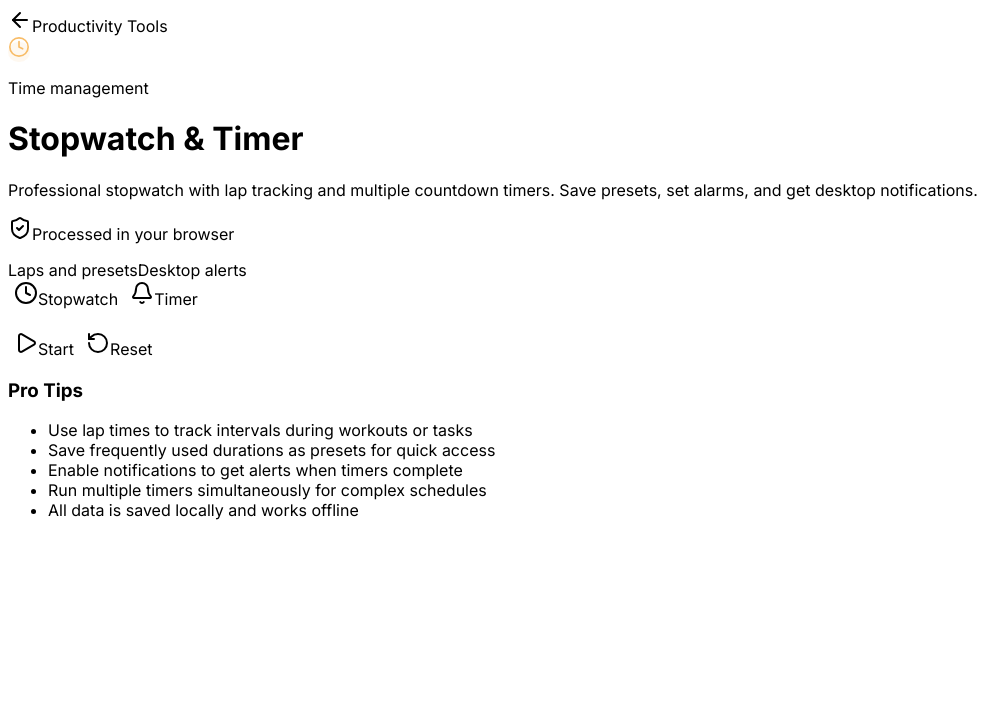
Test: StopwatchTimerPage › Mode Toggle › switches to timer mode when Timer button is clicked
Click the button "Timer": coordinates (164, 295) [124, 280, 204, 310]
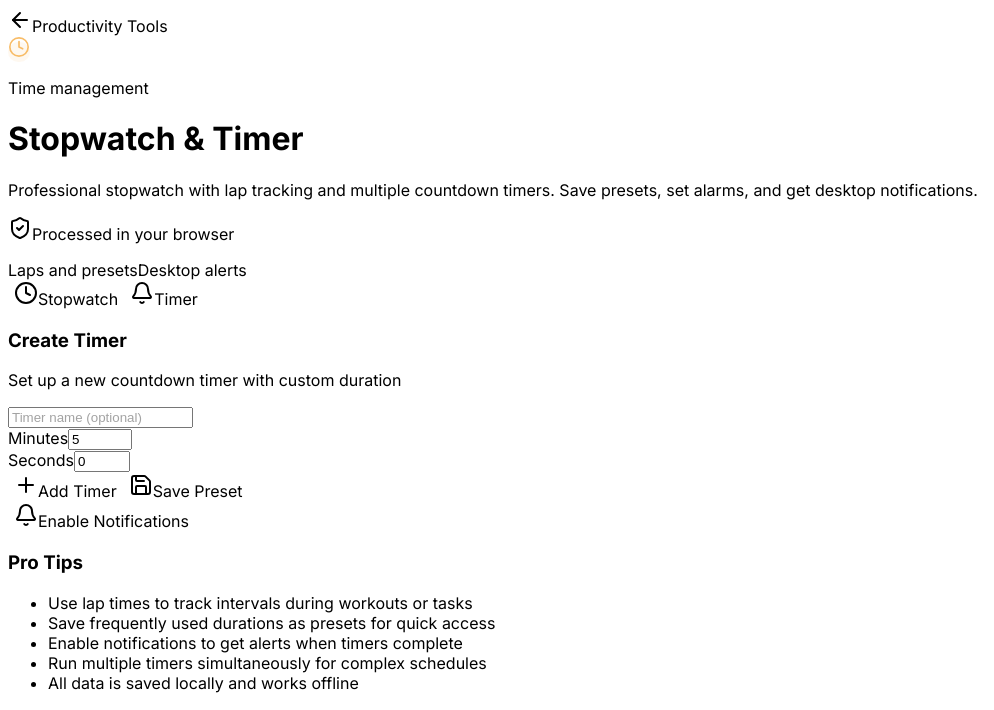
Check: the heading "Create Timer" is shown, box [8, 329, 127, 352]
Check: the field with placeholder "Timer name (optional)" is shown, box [8, 407, 193, 428]
